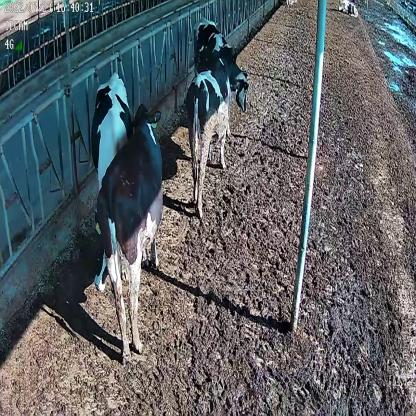cow: (95, 102, 165, 360), (89, 71, 134, 292), (185, 42, 238, 217), (192, 15, 251, 113)
